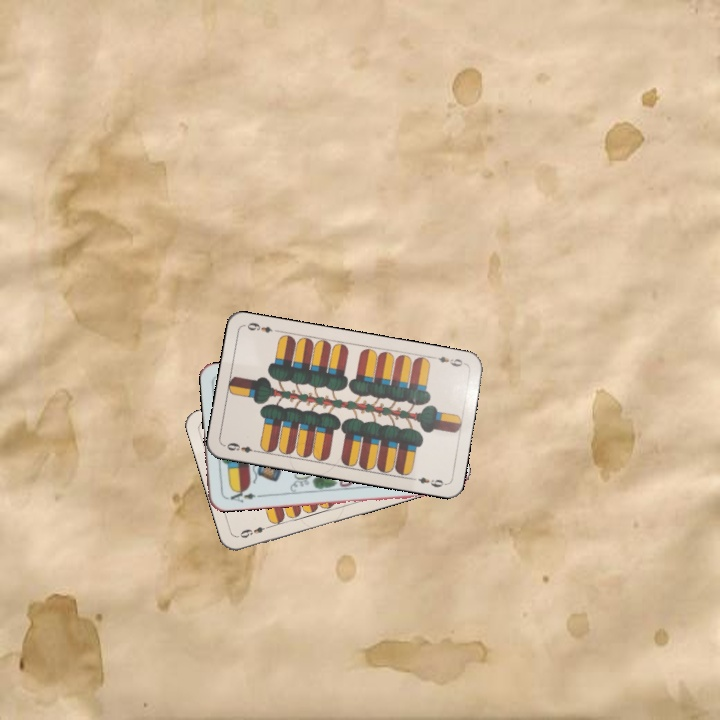E9: (234, 522, 274, 541), (221, 438, 261, 455), (428, 352, 468, 369)
EA: (222, 485, 263, 505)
